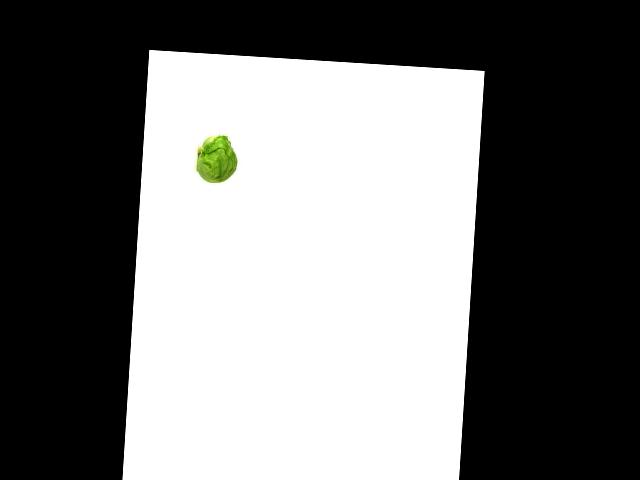lettuce: (195, 128, 243, 189)
